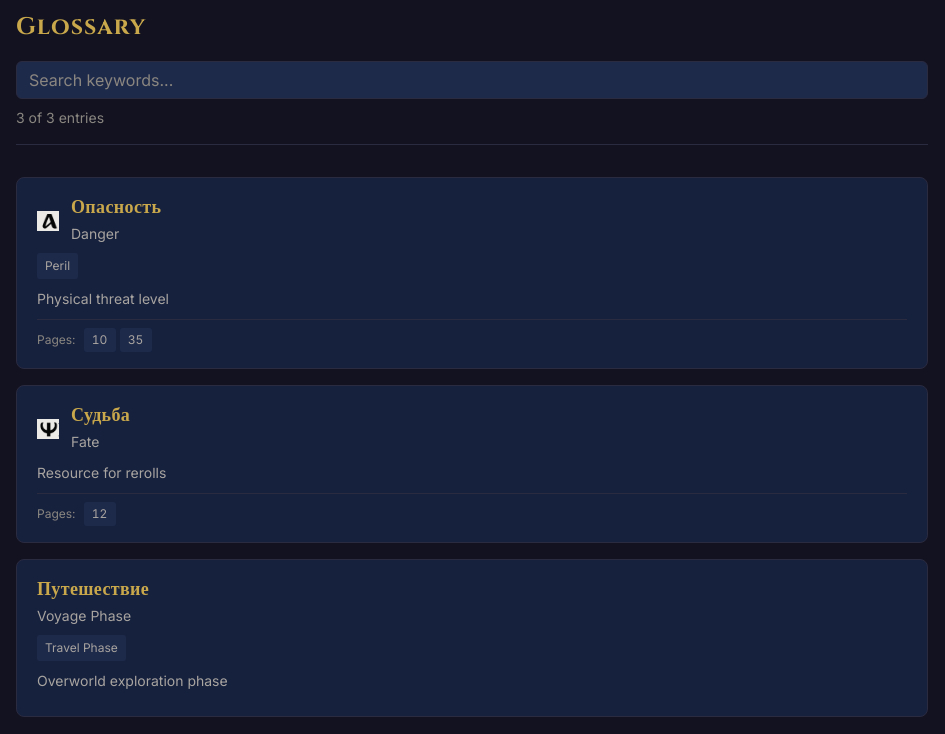
Scenario: GlossaryPage › filters entries by search query
Expected: the heading "Опасность" is shown, 71,194 -> 161,221
Type "Danger" into the search field with placeholder "Search keywords..." at (472, 80), box 16,61 -> 928,99
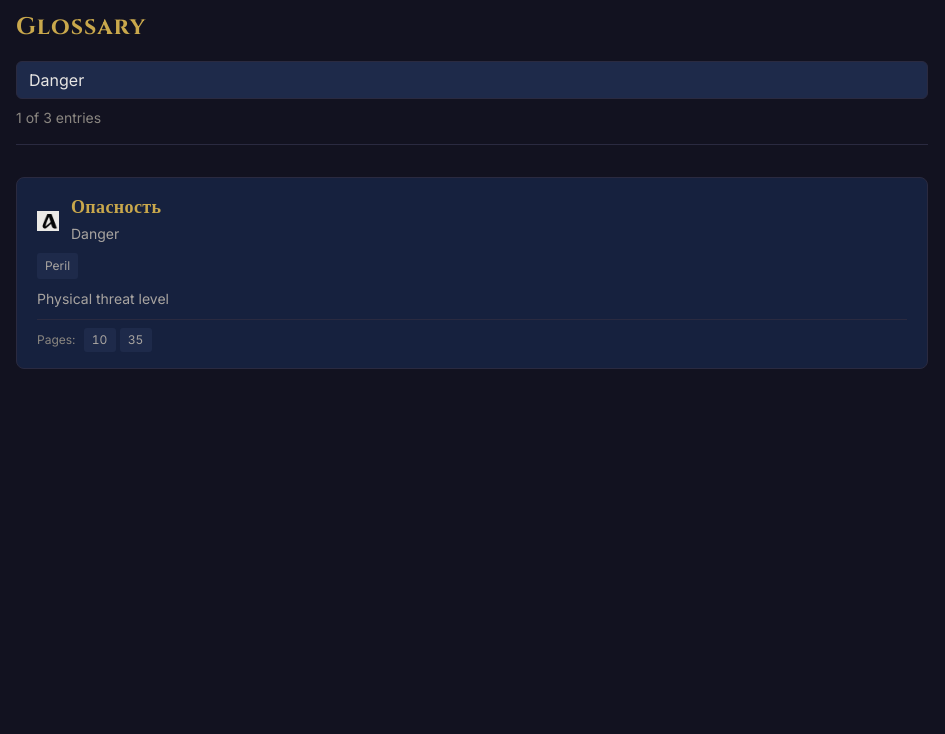
Expected: the heading "Опасность" is shown, 71,194 -> 161,221
Result: the text "1 of 3 entries" is shown at 16,109 -> 101,126
Result: the heading "Судьба" is gone
